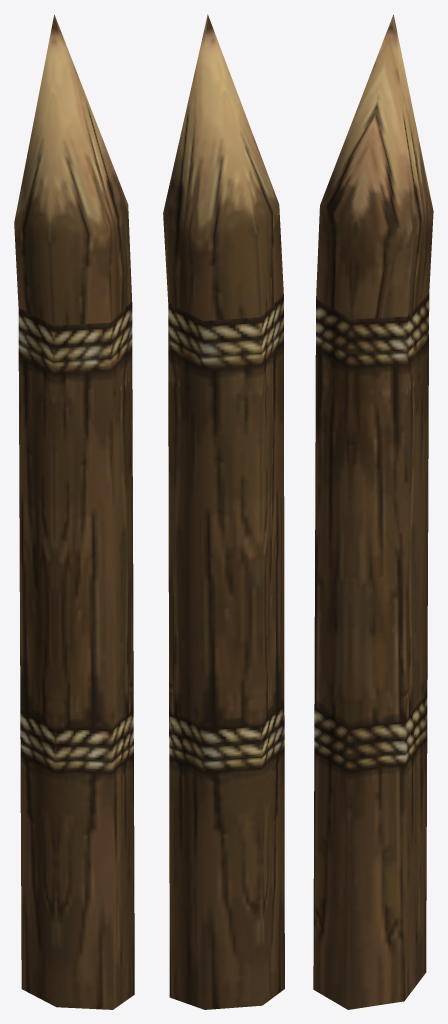
File: 2_YiZhan_MuZhuang_01.FBX
3 views of the same model, side by side, from view 1: azimuth 90°, elevation 25°; view 2: azimuth 150°, elevation 25°; view 3: azimuth 270°, elevation 25° (orthographic).
Parts seen in each view (by area): view 1: 2_YiZhan_MuZhuan_01; view 2: 2_YiZhan_MuZhuan_01; view 3: 2_YiZhan_MuZhuan_01.
Part boxes in pixels (<box>): 2_YiZhan_MuZhuan_01: <box>14,14,134,1009</box>; 2_YiZhan_MuZhuan_01: <box>163,14,284,1009</box>; 2_YiZhan_MuZhuan_01: <box>313,14,433,1009</box>.
Size of the model in its own units: 34.7 by 344 by 38.28.
Materials: 1 (1 with a texture image).
